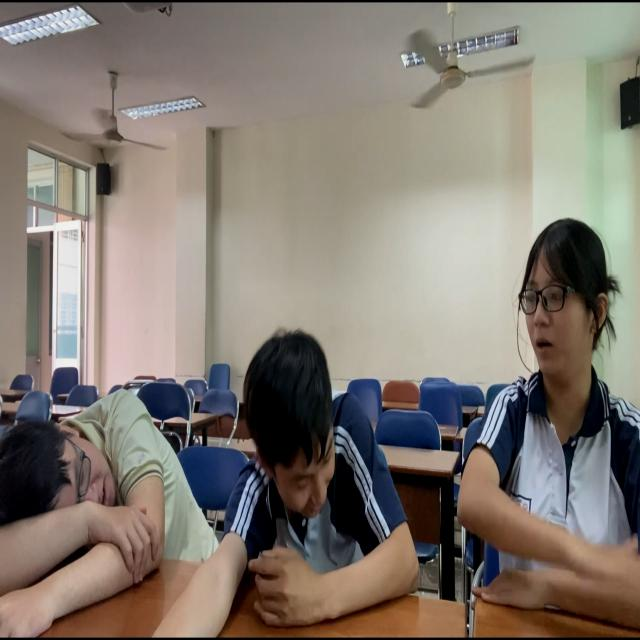sleep: (1, 386, 214, 614)
